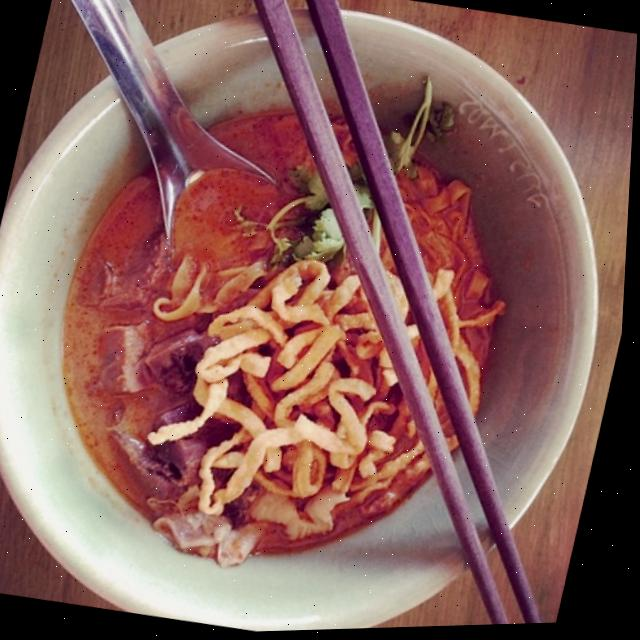面条主食: (0, 21, 624, 640)
